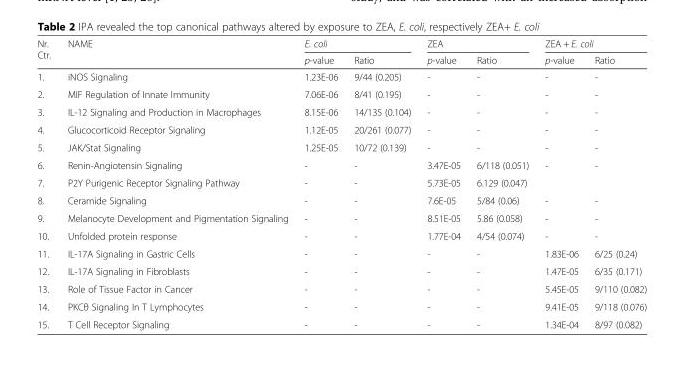table: (36, 37, 646, 329)
table column: (58, 37, 295, 329), (345, 37, 418, 329), (467, 37, 536, 329), (585, 37, 646, 329), (295, 37, 345, 329), (418, 37, 467, 329), (536, 37, 585, 329), (36, 37, 58, 329)
table column header: (36, 37, 646, 67)
table row: (36, 67, 646, 85), (36, 102, 646, 120), (36, 120, 646, 138), (36, 155, 646, 173), (36, 173, 646, 191), (36, 191, 646, 209), (36, 226, 646, 244), (36, 244, 646, 262), (36, 279, 646, 297), (36, 297, 646, 315), (36, 85, 646, 102), (36, 138, 646, 155), (36, 209, 646, 226), (36, 262, 646, 279), (36, 51, 646, 67), (36, 37, 646, 51), (36, 315, 646, 329)
table spanning cell: (58, 37, 295, 67), (295, 37, 418, 51), (418, 37, 536, 51), (536, 37, 646, 51), (36, 37, 58, 67)
